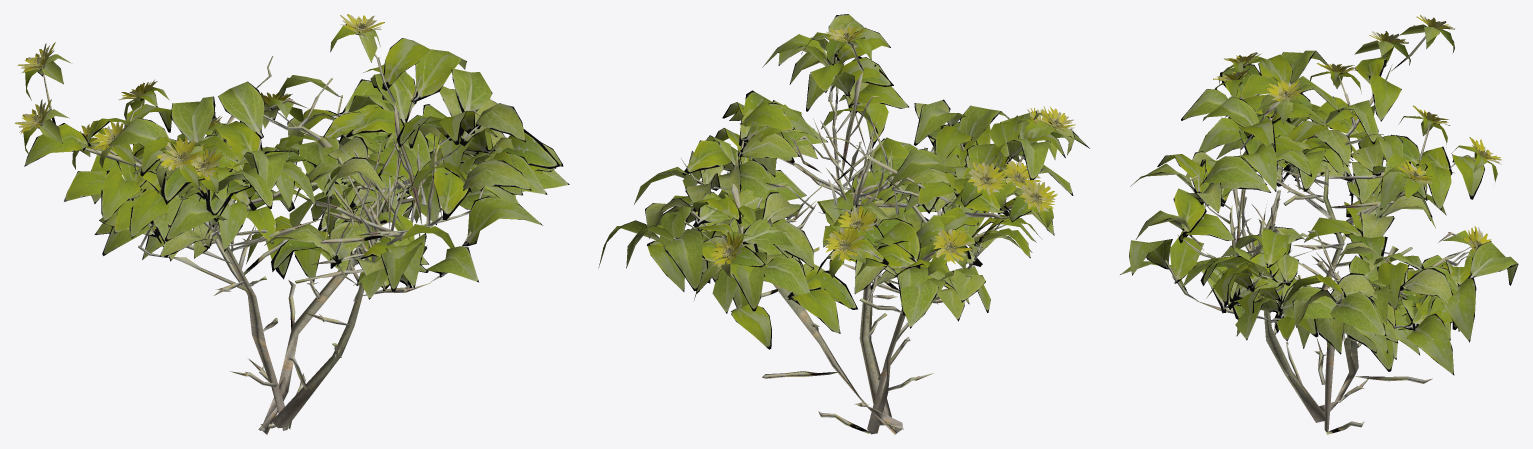
The model's file is bush4.obj.
3 renders of one model, left to right at view 1: azimuth 30°, elevation 25°; view 2: azimuth 150°, elevation 25°; view 3: azimuth 270°, elevation 25°, orthographic. The views are drawn at different scales.
Visible parts, largest first — view 1: didelta_spinosa_medium_LOD0.003; view 2: didelta_spinosa_medium_LOD0.003; view 3: didelta_spinosa_medium_LOD0.003.
Part boxes in pixels (x1,y1,x2,y2): didelta_spinosa_medium_LOD0.003: (14,14,569,434); didelta_spinosa_medium_LOD0.003: (598,14,1089,434); didelta_spinosa_medium_LOD0.003: (1120,15,1518,434).
Size of the model in its own units: 0.1912 by 0.1618 by 0.1582.
